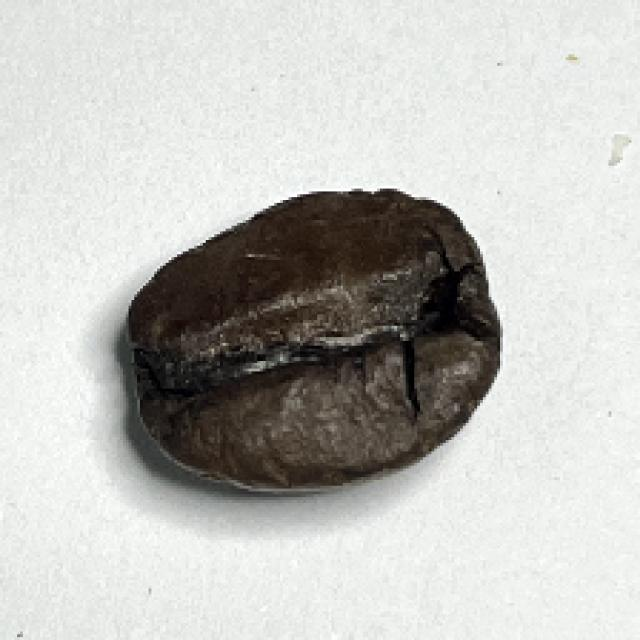bean: (119, 186, 505, 493)
